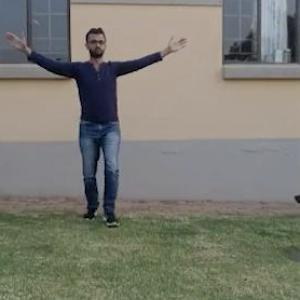takeoff: (12, 24, 187, 220)
